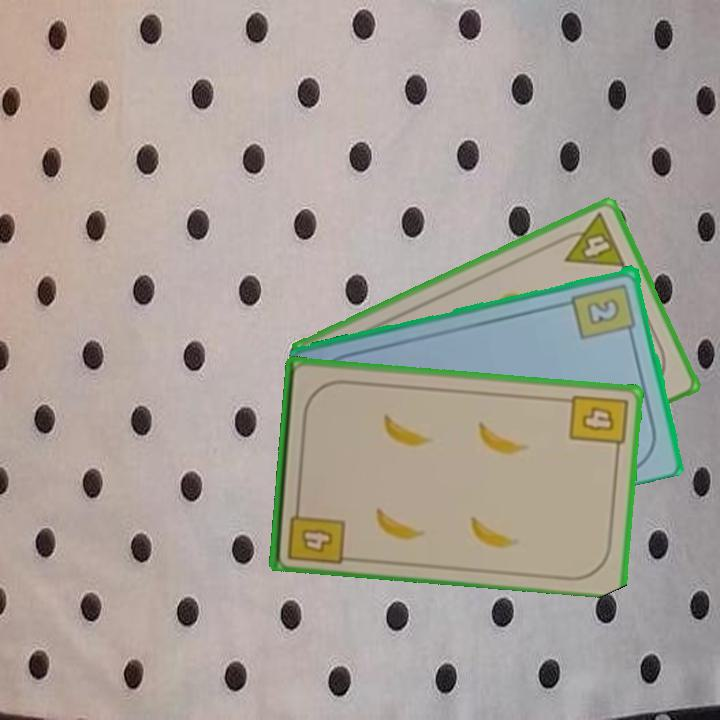2b: (569, 279, 639, 342)
4b: (283, 497, 347, 566), (566, 391, 630, 457)
4p: (553, 209, 629, 270)
